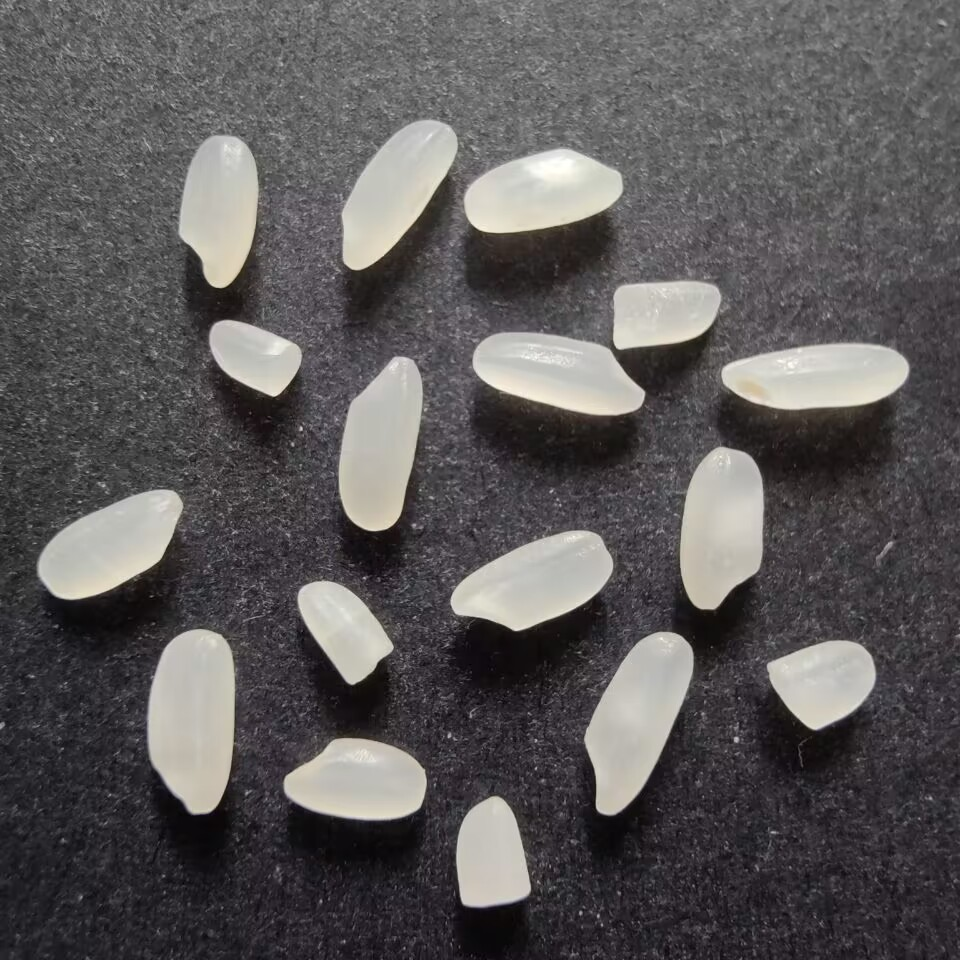broken: (294, 577, 397, 688), (760, 638, 878, 733), (451, 793, 532, 917), (608, 276, 725, 353), (206, 315, 305, 400)
rice: (581, 628, 697, 817), (332, 116, 460, 273), (445, 525, 615, 636), (34, 485, 190, 605), (145, 625, 237, 819), (675, 442, 772, 615), (469, 328, 649, 420), (337, 349, 425, 533), (460, 144, 630, 238), (277, 733, 431, 830), (715, 338, 910, 412), (173, 131, 261, 294)
